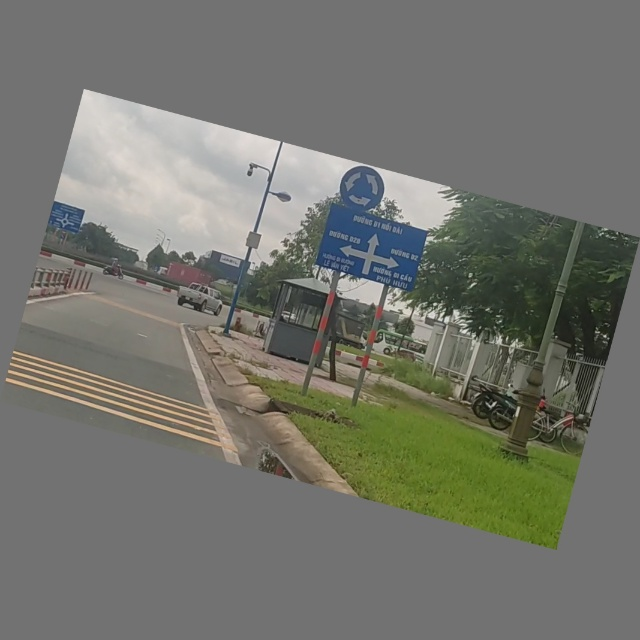R.303: (331, 160, 394, 218)
